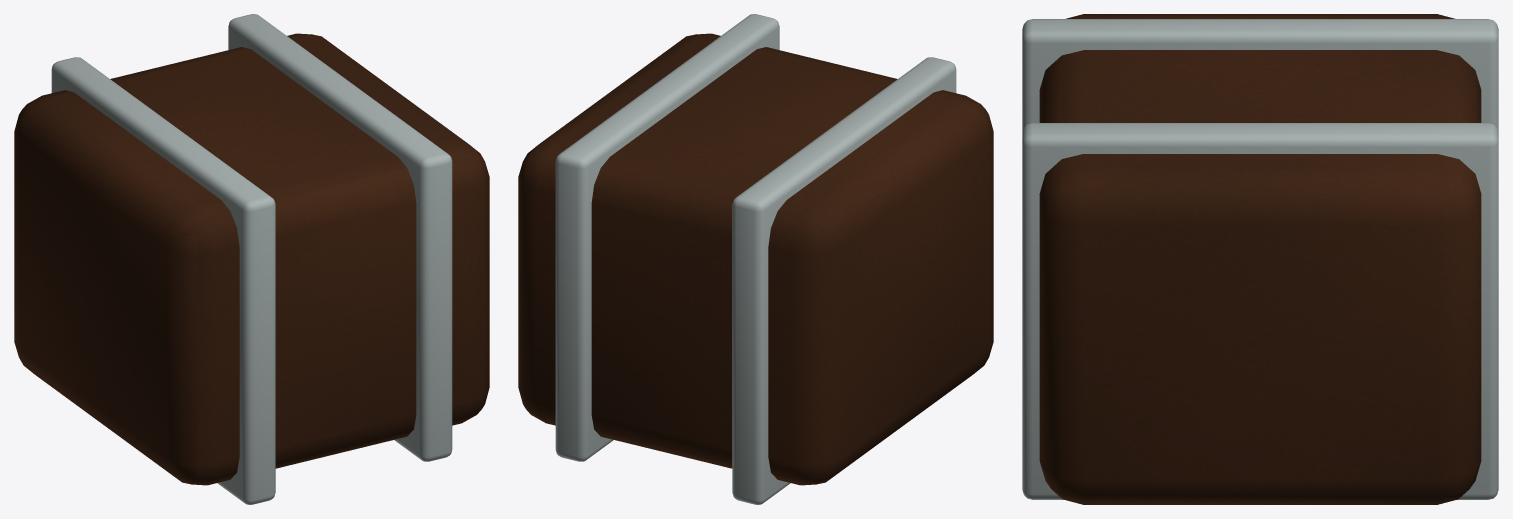
Rendered from weight.glb.
The picture shows the model from 3 angles, left to right: view 1: azimuth 30°, elevation 25°; view 2: azimuth 150°, elevation 25°; view 3: azimuth 270°, elevation 25°; orthographic projection. The views are drawn at different scales.
Parts seen in each view (by area): view 1: Dense ballast block, Ballast retaining band.001, Ballast retaining band; view 2: Dense ballast block, Ballast retaining band.001, Ballast retaining band; view 3: Dense ballast block, Ballast retaining band.001, Ballast retaining band.
Part boxes in pixels (x1=…): Dense ballast block: x1=14, y1=33, x2=489, y2=485; Ballast retaining band.001: x1=228, y1=14, x2=452, y2=461; Ballast retaining band: x1=51, y1=57, x2=275, y2=504; Dense ballast block: x1=518, y1=33, x2=993, y2=485; Ballast retaining band.001: x1=555, y1=14, x2=779, y2=461; Ballast retaining band: x1=732, y1=57, x2=956, y2=504; Dense ballast block: x1=1039, y1=14, x2=1481, y2=504; Ballast retaining band.001: x1=1022, y1=123, x2=1498, y2=499; Ballast retaining band: x1=1022, y1=19, x2=1498, y2=131.
Size of the model in its own units: 0.09 by 0.082 by 0.097.
Materials: 2 (1 with a texture image).
